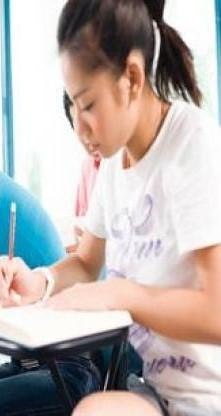good: (0, 0, 221, 370)
